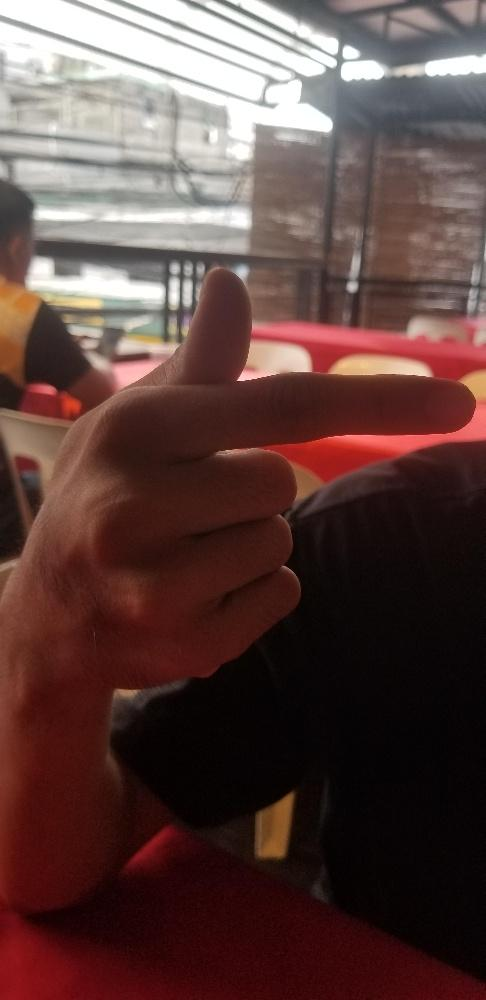g: (19, 263, 476, 682)
